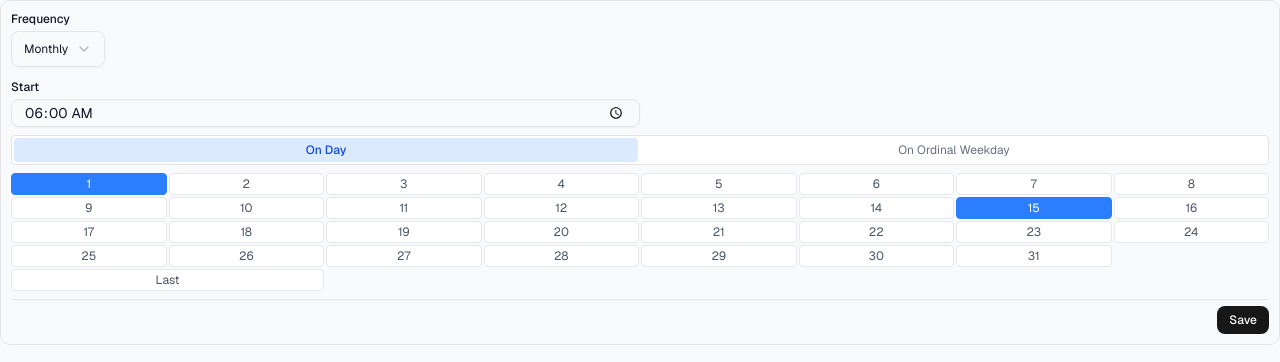
Test: ScheduleEditor › toggles Monthly mode from Day to Ordinal
Click "On Ordinal Weekday" button
Click the button "On Ordinal Weekday" at (954,150), box 642,138 -> 1266,162
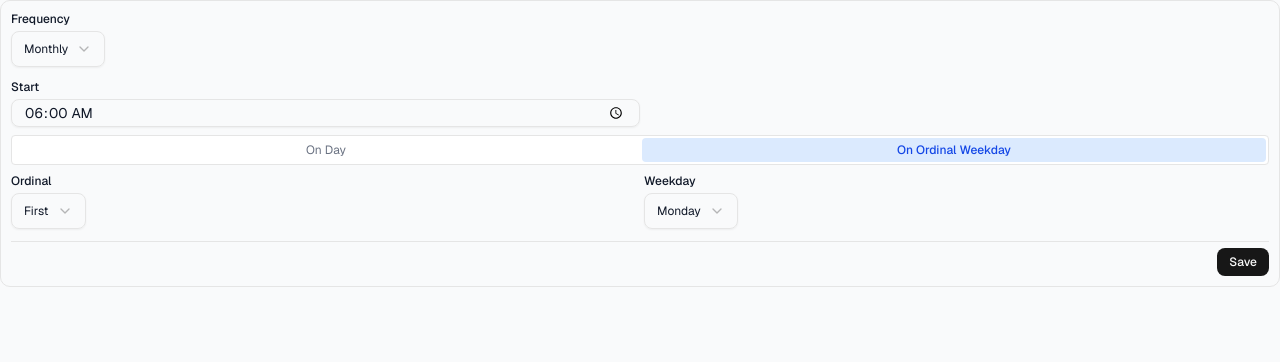
Result: the text "Ordinal" is shown at 11,173 -> 52,189
Result: the text "Weekday" is shown at 644,173 -> 696,189
